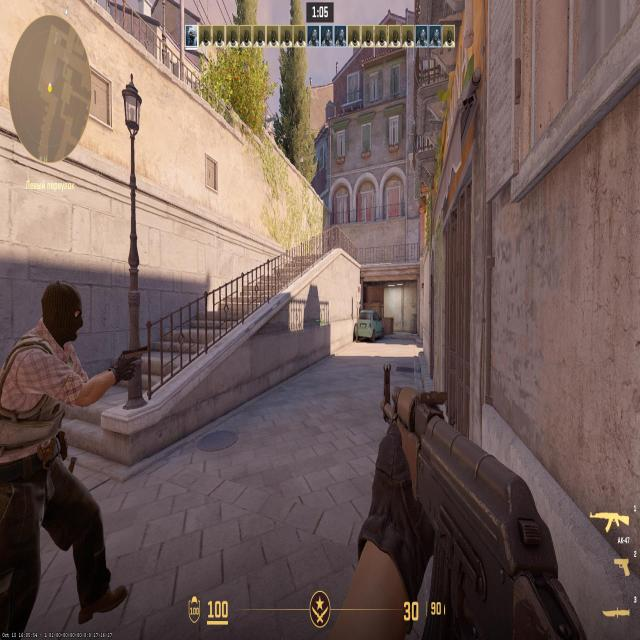T: (14, 291, 86, 592)
T_heat: (41, 287, 60, 350)
